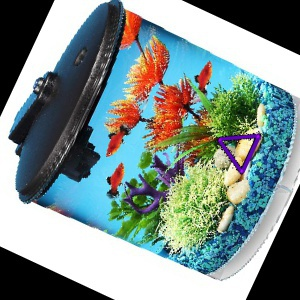triangle: (216, 131, 261, 176)
